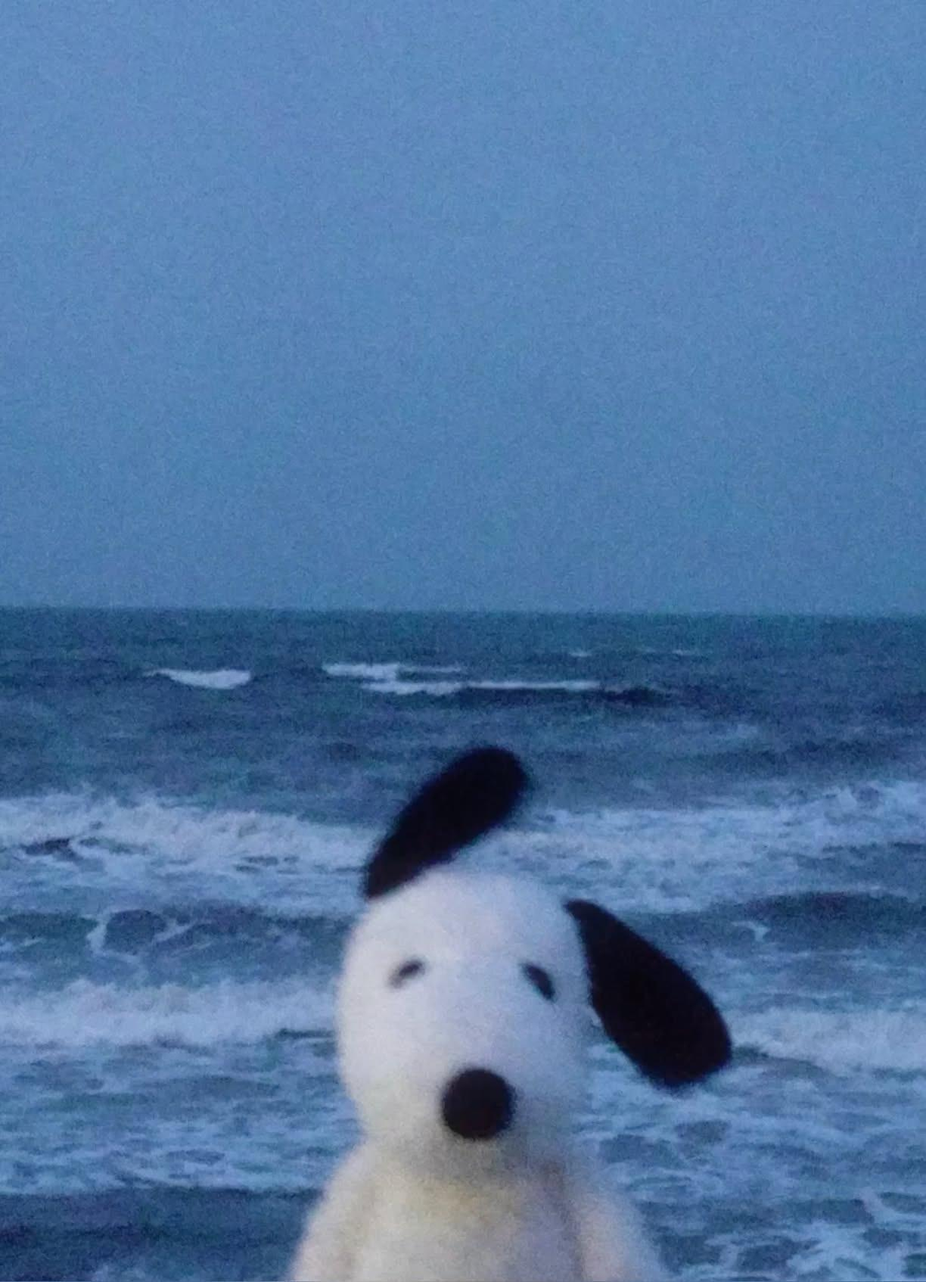non-dog: (284, 740, 738, 1282)
